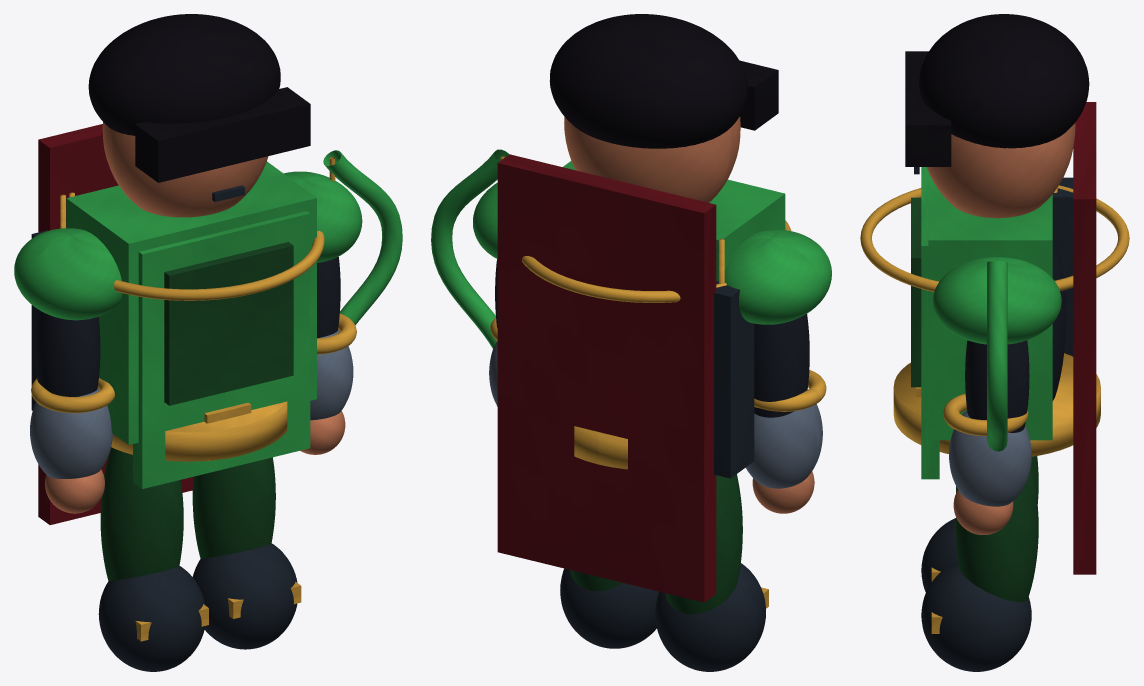
The model's file is Specialization.glb.
The picture shows the model from 3 angles, left to right: view 1: azimuth 30°, elevation 25°; view 2: azimuth 150°, elevation 25°; view 3: azimuth 270°, elevation 25°; orthographic projection. The views are drawn at different scales.
Parts seen in each view (by area): view 1: ArcherTunic, Hair, LeatherChestGuard, ChestPlate, HairFringe, Boot, Leg, Boot.001, Shoulder, Leg.001, Cape, Head (+12 smaller); view 2: Cape, Hair, Shoulder, Head, Quiver, Boot, Boot.001, Gauntlet, Bow, Arm, ChestPlate, Leg (+7 smaller); view 3: Hair, ChestPlate, Cape, Head, Boot.001, Shoulder.001, Leg.001, Gauntlet.001, WaistGuard, Bow, HairFringe, Arm.001 (+8 smaller).
Boxes of the visible parts, bbox=[...] form: ArcherTunic: bbox=[133, 211, 310, 488]; Hair: bbox=[88, 14, 280, 135]; LeatherChestGuard: bbox=[164, 242, 293, 405]; ChestPlate: bbox=[66, 161, 316, 444]; HairFringe: bbox=[135, 87, 310, 182]; Boot: bbox=[98, 566, 205, 671]; Leg: bbox=[100, 447, 183, 581]; Boot.001: bbox=[192, 543, 297, 649]; Shoulder: bbox=[14, 228, 122, 320]; Leg.001: bbox=[192, 457, 275, 558]; Cape: bbox=[38, 124, 193, 524]; Head: bbox=[102, 122, 268, 217]; Cape: bbox=[497, 154, 716, 602]; Hair: bbox=[549, 14, 747, 148]; Shoulder: bbox=[724, 229, 831, 324]; Head: bbox=[564, 116, 740, 202]; Quiver: bbox=[714, 281, 754, 478]; Boot: bbox=[655, 563, 765, 671]; Boot.001: bbox=[560, 568, 658, 648]; Gauntlet: bbox=[745, 404, 822, 488]; Bow: bbox=[431, 149, 509, 348]; Arm: bbox=[754, 314, 809, 417]; ChestPlate: bbox=[562, 161, 785, 281]; Leg: bbox=[665, 474, 742, 614]; Hair: bbox=[919, 14, 1089, 148]; ChestPlate: bbox=[928, 171, 1052, 440]; Cape: bbox=[1073, 102, 1096, 574]; Head: bbox=[927, 123, 1075, 218]; Boot.001: bbox=[921, 562, 1031, 671]; Shoulder.001: bbox=[933, 257, 1061, 344]; Leg.001: bbox=[956, 467, 1038, 602]; Gauntlet.001: bbox=[949, 410, 1031, 506]; WaistGuard: bbox=[893, 353, 1100, 456]; Bow: bbox=[987, 261, 1007, 451]; HairFringe: bbox=[905, 51, 951, 166]; Arm.001: bbox=[965, 340, 1029, 432].
Bounding box in the file's own units: 1.88 × 2.96 × 1.17.
Materials: 11 (9 with a texture image).
